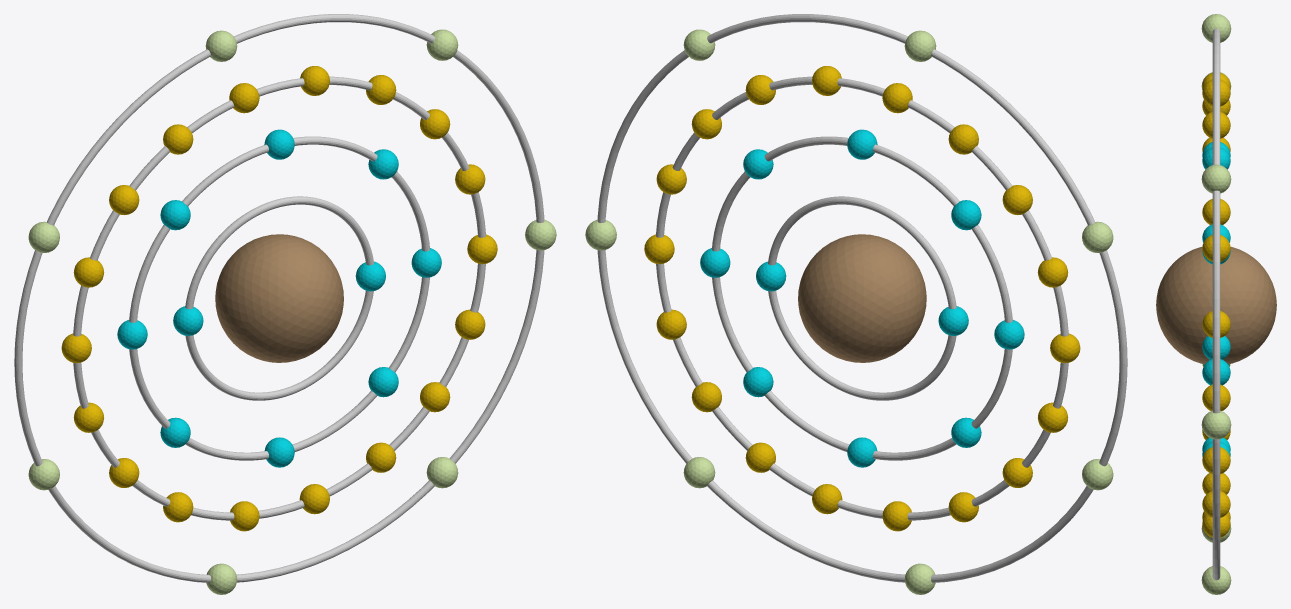
3 views of the same model, side by side, from view 1: azimuth 30°, elevation 25°; view 2: azimuth 150°, elevation 25°; view 3: azimuth 270°, elevation 25° (orthographic). The views are drawn at different scales.
Parts seen in each view (by area): view 1: Camada_4, Nucleo_Br, Camada_3, Camada_2, Camada_1, e4_7, e4_4, e4_3, e4_1, e4_2, e4_5, e4_6 (+28 smaller); view 2: Camada_4, Nucleo_Br, Camada_3, Camada_2, Camada_1, e4_7, e4_4, e4_3, e4_1, e4_2, e4_5, e4_6 (+28 smaller); view 3: Nucleo_Br, Camada_4, e4_1, e4_2, e4_7, e4_3, e3_18, e3_2, e3_3, e3_17, e3_6, e2_1 (+9 smaller).
Boxes of the visible parts, x1,y1,x2,y2 form: Camada_4: (14, 14, 544, 582); Nucleo_Br: (215, 234, 343, 362); Camada_3: (73, 76, 485, 520); Camada_2: (129, 136, 429, 460); Camada_1: (185, 196, 373, 400); e4_7: (426, 457, 458, 488); e4_4: (28, 221, 59, 252); e4_3: (205, 30, 237, 61); e4_1: (525, 219, 556, 250); e4_2: (426, 29, 458, 60); e4_5: (28, 459, 59, 490); e4_6: (206, 563, 237, 594); Camada_4: (597, 14, 1127, 582); Nucleo_Br: (798, 234, 926, 362); Camada_3: (656, 76, 1068, 520); Camada_2: (712, 136, 1012, 460); Camada_1: (768, 196, 956, 400); e4_7: (683, 457, 715, 488); e4_4: (1082, 221, 1113, 252); e4_3: (904, 30, 936, 61); e4_1: (585, 219, 616, 250); e4_2: (683, 29, 715, 60); e4_5: (1082, 459, 1113, 490); e4_6: (904, 563, 935, 594); Nucleo_Br: (1156, 247, 1276, 364); Camada_4: (1212, 28, 1220, 580); e4_1: (1201, 410, 1231, 439); e4_2: (1201, 164, 1231, 193); e4_7: (1201, 566, 1231, 594); e4_3: (1201, 14, 1231, 42); e3_18: (1202, 447, 1230, 474); e3_2: (1202, 311, 1230, 337); e3_3: (1202, 235, 1230, 261); e3_17: (1202, 491, 1230, 517); e3_6: (1202, 79, 1230, 106); e2_1: (1202, 359, 1230, 385).
Size of the model in its own units: 2.13 by 2.12 by 0.44.
